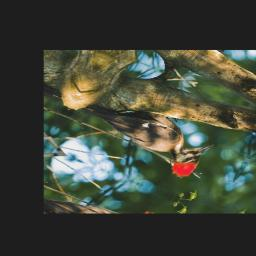Woodpecker: (67, 85, 224, 182)
